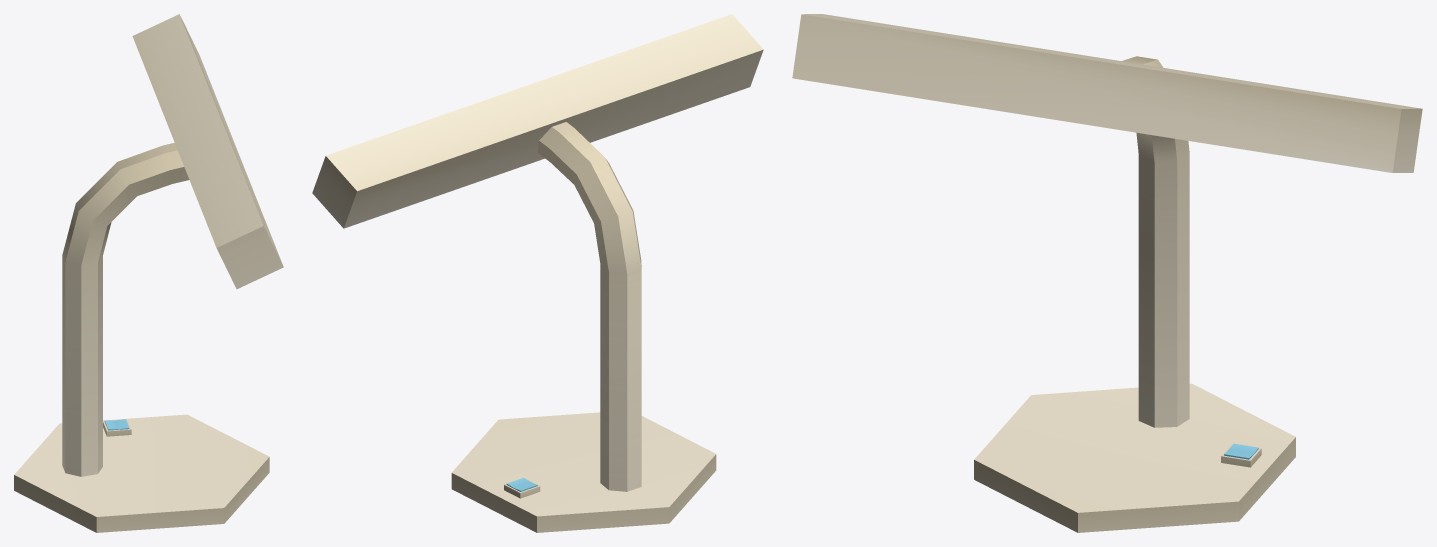
Rendered from lamp.fbx.
3 views of the same model, side by side, from view 1: azimuth 30°, elevation 25°; view 2: azimuth 150°, elevation 25°; view 3: azimuth 270°, elevation 25° (orthographic). The views are drawn at different scales.
Parts seen in each view (by area): view 1: lamp; view 2: lamp; view 3: lamp.
Part boxes in pixels (x1,y1,x2,y2): lamp: (14,14,283,532); lamp: (312,14,763,532); lamp: (792,14,1422,532).
Bounding box in the file's own units: 325 × 417 × 532.
